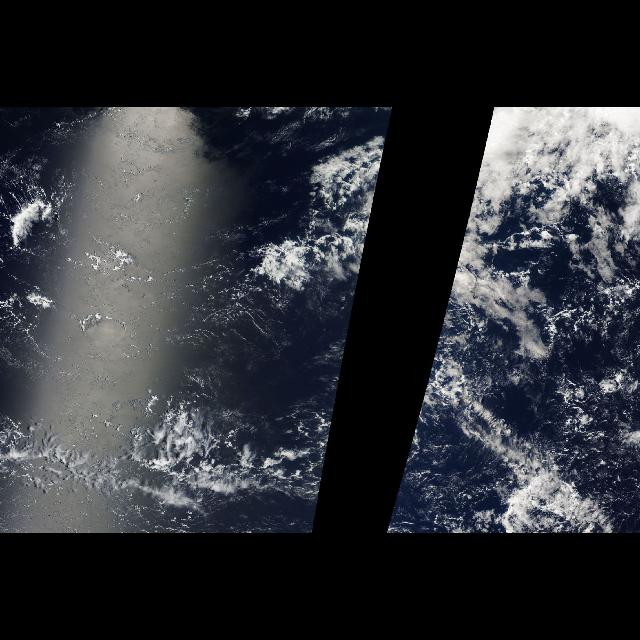Fish: (8, 363, 344, 533), (435, 108, 639, 346), (385, 359, 617, 533), (272, 108, 392, 346)
Gravel: (442, 278, 638, 494)
Sugar: (1, 149, 342, 407)
